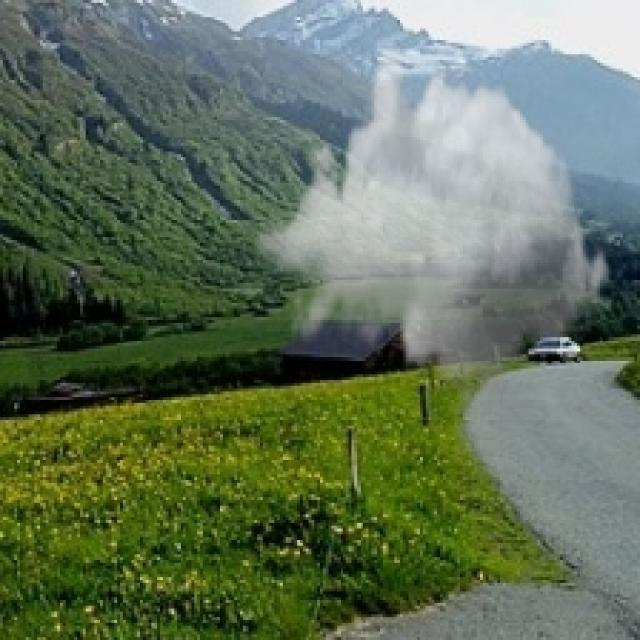Smoke: (255, 40, 614, 409)
